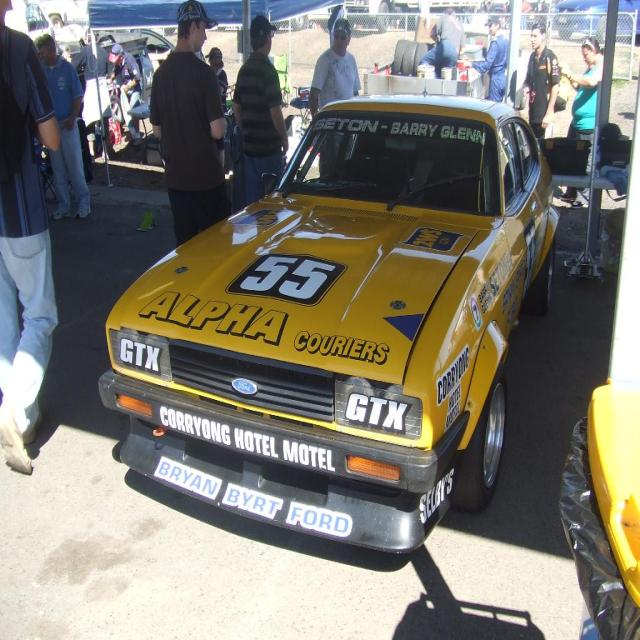car: (99, 97, 563, 554)
